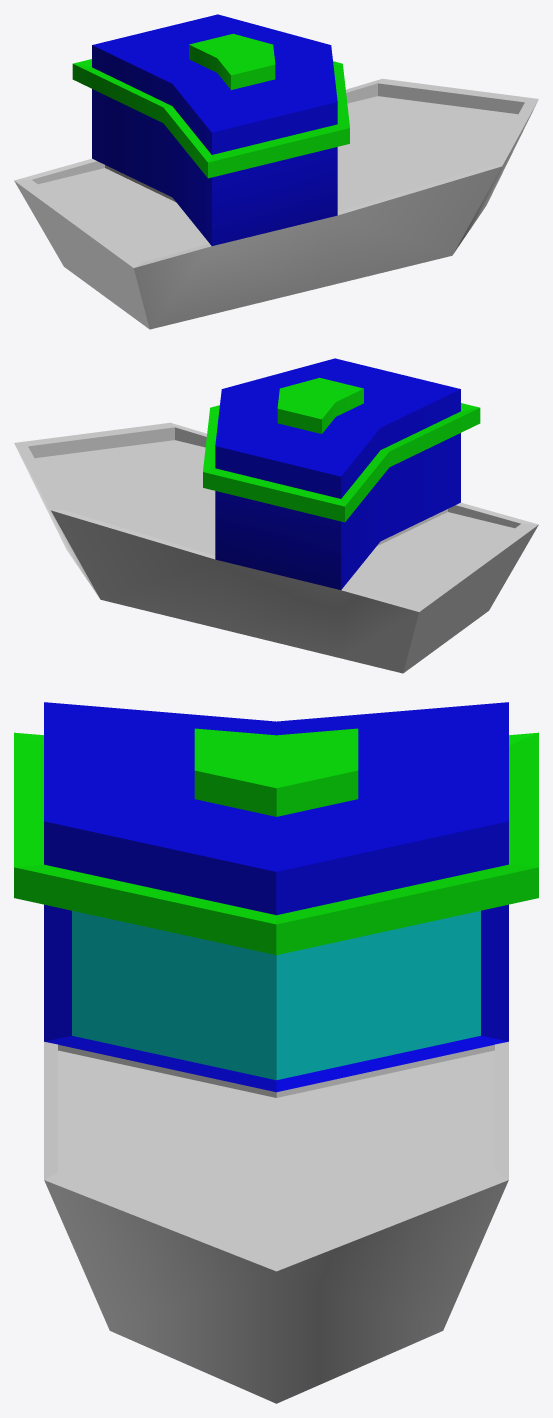
Rendered from boat2.fbx.
3 views of the same model, one above another, from view 1: azimuth 30°, elevation 25°; view 2: azimuth 150°, elevation 25°; view 3: azimuth 270°, elevation 25° (orthographic). The views are drawn at different scales.
Parts seen in each view (by area): view 1: boat2; view 2: boat2; view 3: boat2.
Boxes of the visible parts, x1=… form: boat2: x1=14, y1=14, x2=538, y2=329; boat2: x1=14, y1=358, x2=538, y2=673; boat2: x1=14, y1=702, x2=538, y2=1403.
Bounding box in the file's own units: 9.12 × 3.99 × 4.59.
